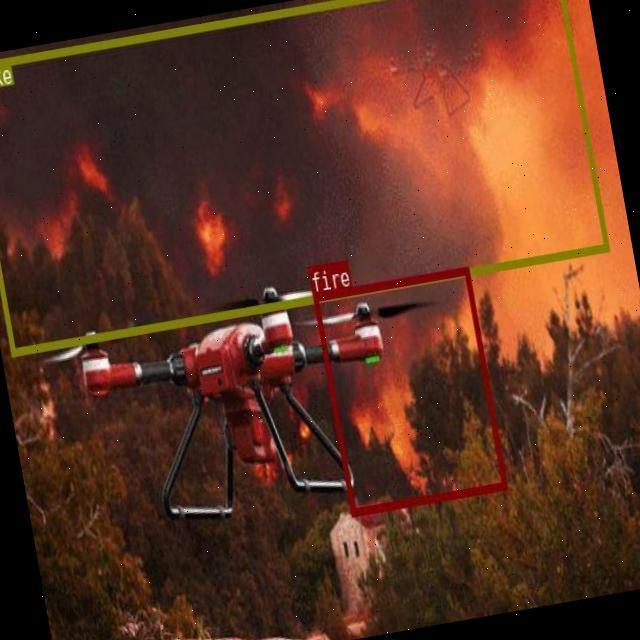fire: (311, 264, 506, 514)
smoke: (0, 0, 608, 354)
